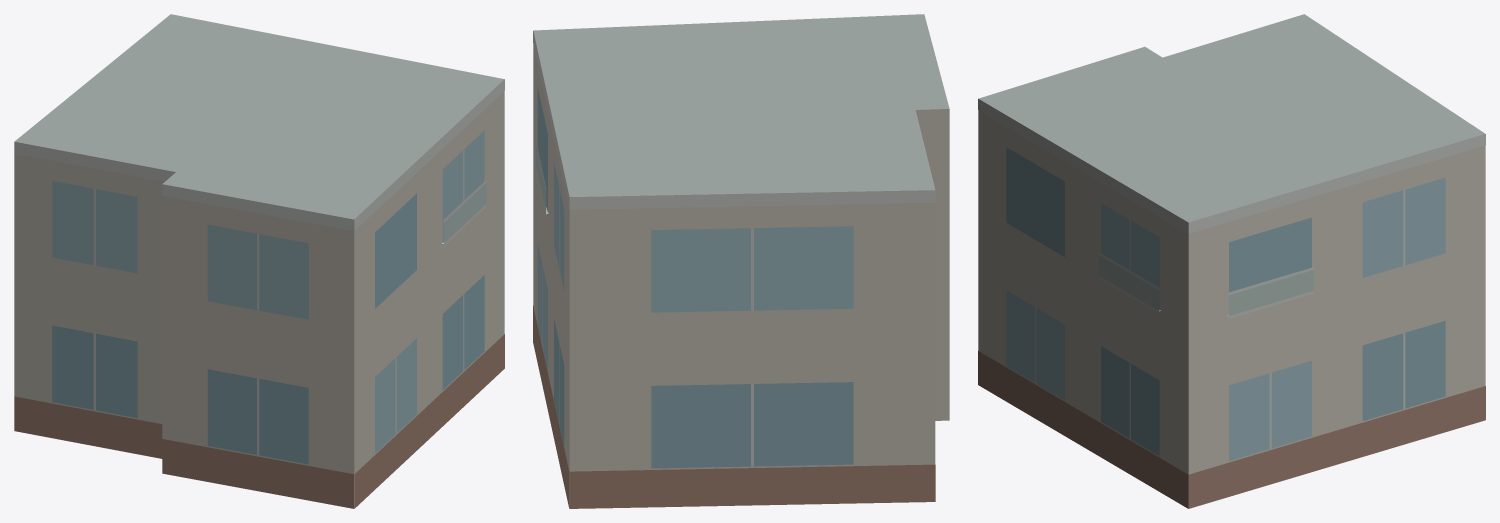
Rendered from survey-upis-32468805.glb.
3 renders of one model, left to right at view 1: azimuth 30°, elevation 25°; view 2: azimuth 150°, elevation 25°; view 3: azimuth 270°, elevation 25°, orthographic. The views are drawn at different scales.
Visible parts, largest first — view 1: survey-upis-32468805.tmp; view 2: survey-upis-32468805.tmp; view 3: survey-upis-32468805.tmp.
Boxes of the visible parts, box(x1,y1,x2,y2) form: survey-upis-32468805.tmp: box(14, 14, 504, 508); survey-upis-32468805.tmp: box(533, 14, 949, 508); survey-upis-32468805.tmp: box(978, 14, 1485, 508).
Size of the model in its own units: 9.54 by 6.1 by 9.81.
